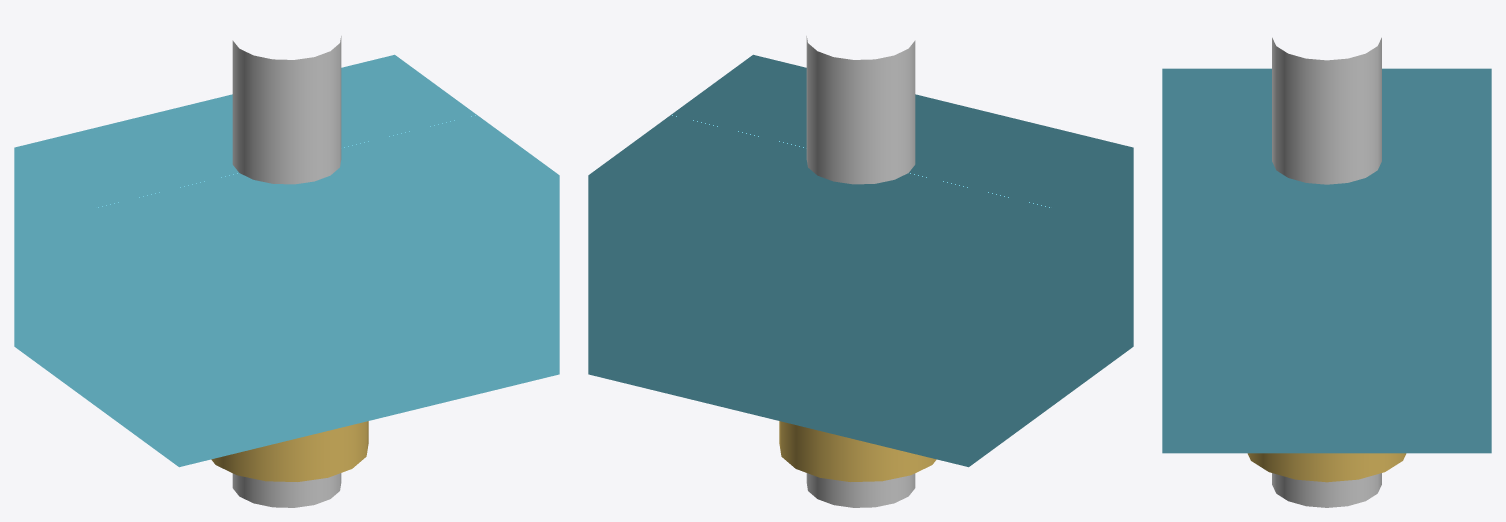
File: bolted_joint.glb
The picture shows the model from 3 angles, left to right: view 1: azimuth 30°, elevation 25°; view 2: azimuth 150°, elevation 25°; view 3: azimuth 270°, elevation 25°; orthographic projection.
Parts seen in each view (by area): view 1: ClampedPlates, HexBolt, NutThread; view 2: ClampedPlates, HexBolt, NutThread; view 3: ClampedPlates, HexBolt, NutThread.
Boxes of the visible parts, box(x1,y1,x2,y2) form: ClampedPlates: box(14, 54, 559, 467); HexBolt: box(232, 36, 341, 507); NutThread: box(211, 421, 368, 481); ClampedPlates: box(588, 54, 1133, 467); HexBolt: box(806, 36, 915, 507); NutThread: box(779, 421, 936, 481); ClampedPlates: box(1162, 68, 1491, 453); HexBolt: box(1272, 37, 1381, 507); NutThread: box(1247, 453, 1406, 482).
Size of the model in its own units: 1.6 by 1.8 by 1.2.
